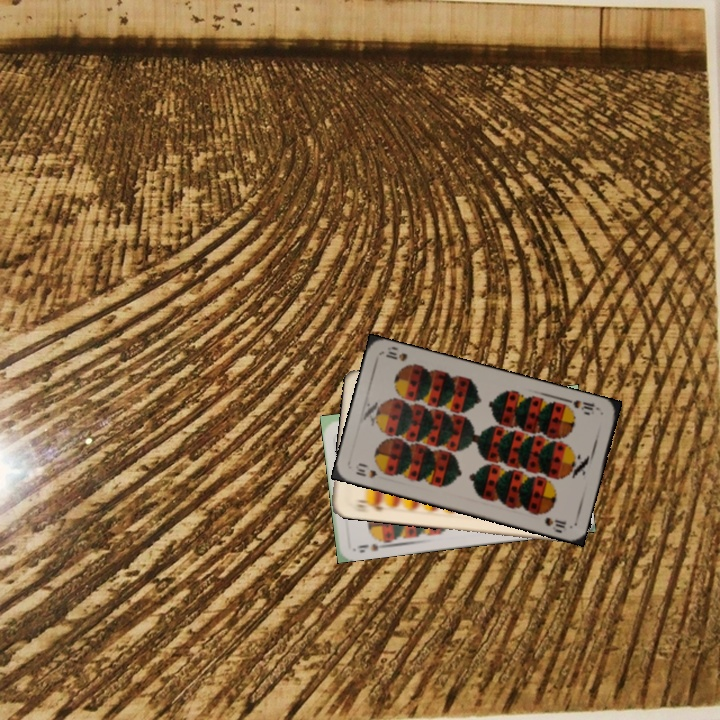E10: (353, 495, 386, 513)
S10: (352, 460, 390, 481), (563, 395, 597, 417)
S9: (351, 533, 391, 555)
